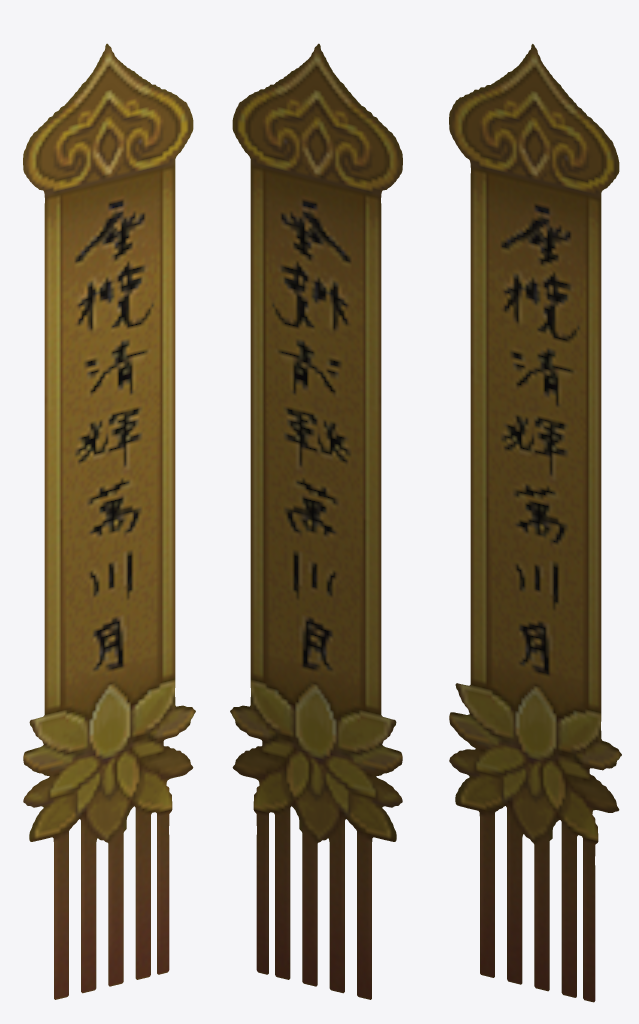
The model's file is fb_cangjingge_changfu01.FBX.
The picture shows the model from 3 angles, left to right: view 1: azimuth 30°, elevation 25°; view 2: azimuth 150°, elevation 25°; view 3: azimuth 330°, elevation 25°; orthographic projection.
Parts seen in each view (by area): view 1: fb_cangjingge_changfu01; view 2: fb_cangjingge_changfu01; view 3: fb_cangjingge_changfu01.
Boxes of the visible parts, x1,y1,x2,y2 form: fb_cangjingge_changfu01: (23,43,195,999); fb_cangjingge_changfu01: (230,43,402,999); fb_cangjingge_changfu01: (449,44,621,1002).
Size of the model in its own units: 136 by 671 by 2.93e-05.
